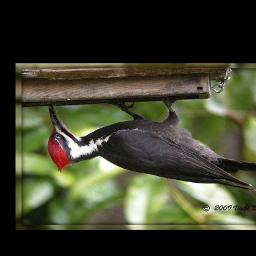Woodpecker: (47, 98, 256, 192)
